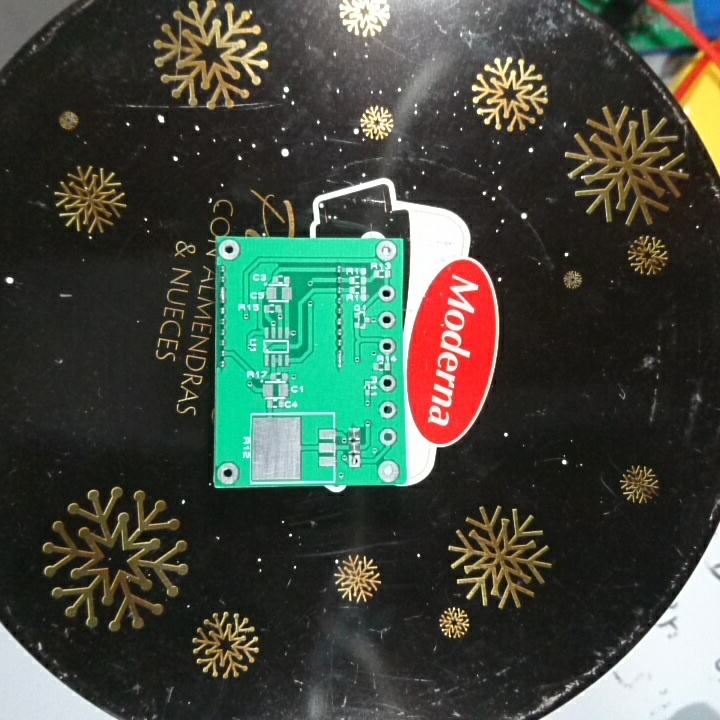F: (215, 460, 242, 487), (376, 457, 402, 483), (216, 238, 241, 262), (373, 240, 399, 263), (377, 426, 399, 449), (377, 334, 396, 359), (376, 309, 397, 331), (376, 373, 399, 393), (377, 283, 397, 305), (377, 400, 397, 419), (347, 453, 364, 469)
P: (333, 348, 348, 371), (217, 285, 230, 307)
